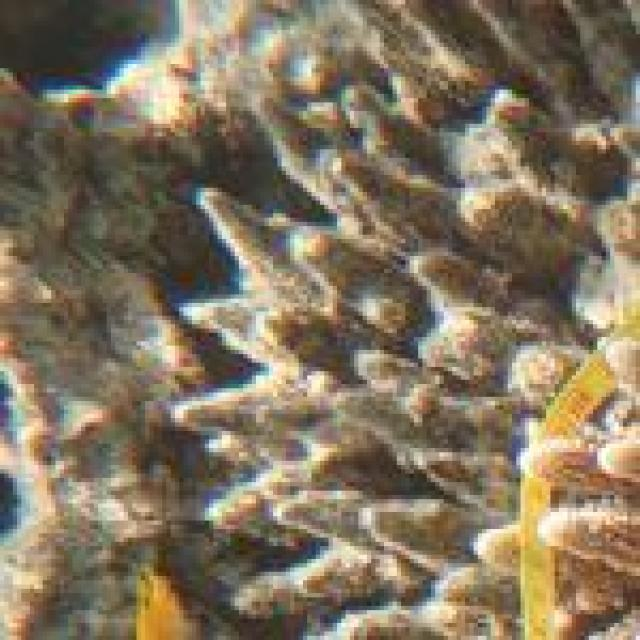Healthy Coral: (494, 411, 640, 639)
